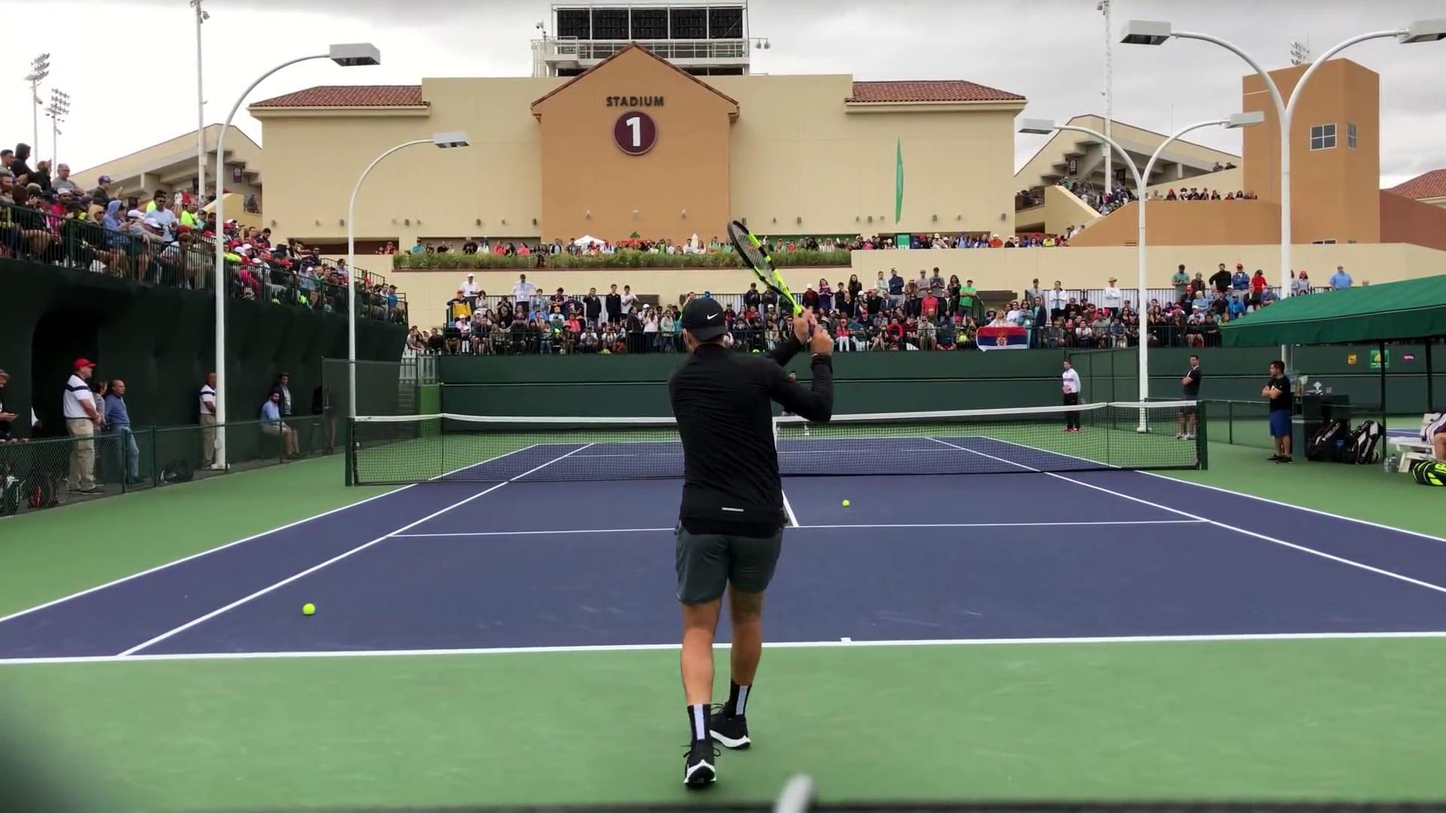ball: (301, 603, 315, 616), (841, 499, 850, 507)
